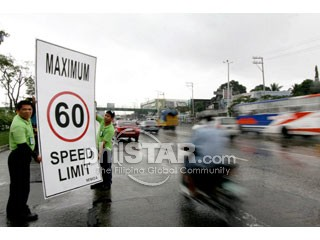Speed_limit_60km: (46, 91, 91, 142)
